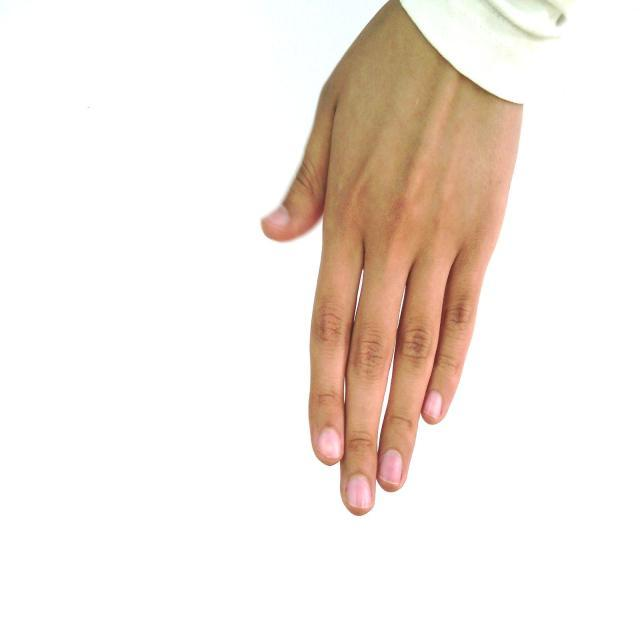Fingernail: (347, 475, 371, 509), (380, 450, 402, 484), (319, 429, 340, 458), (265, 206, 288, 227), (425, 391, 441, 420)
